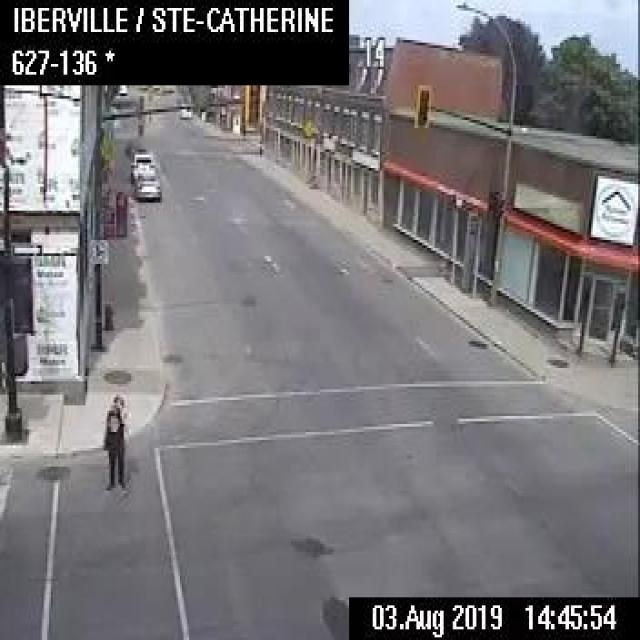pedestrian: (100, 389, 129, 491)
vehicle: (133, 167, 160, 200), (129, 151, 155, 181), (124, 136, 145, 154), (116, 82, 128, 100), (177, 103, 191, 117)
